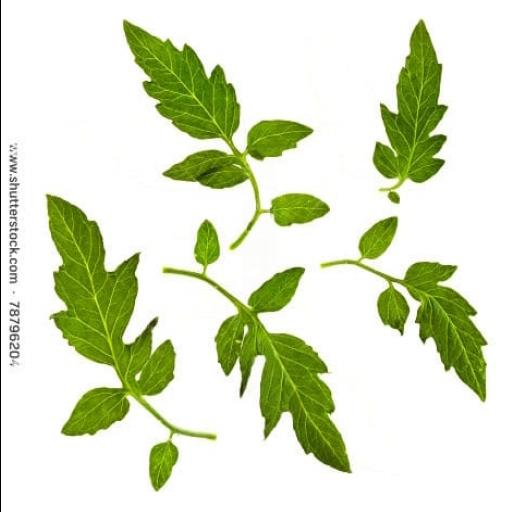Healthy: (212, 317, 352, 475), (44, 194, 159, 376), (124, 21, 242, 140), (371, 18, 449, 182), (403, 262, 489, 404), (60, 386, 130, 438), (245, 118, 315, 162), (248, 266, 306, 314), (162, 148, 233, 182), (136, 339, 176, 397), (270, 192, 330, 228), (358, 216, 398, 260), (147, 440, 179, 492), (375, 289, 409, 336), (193, 220, 221, 266)
